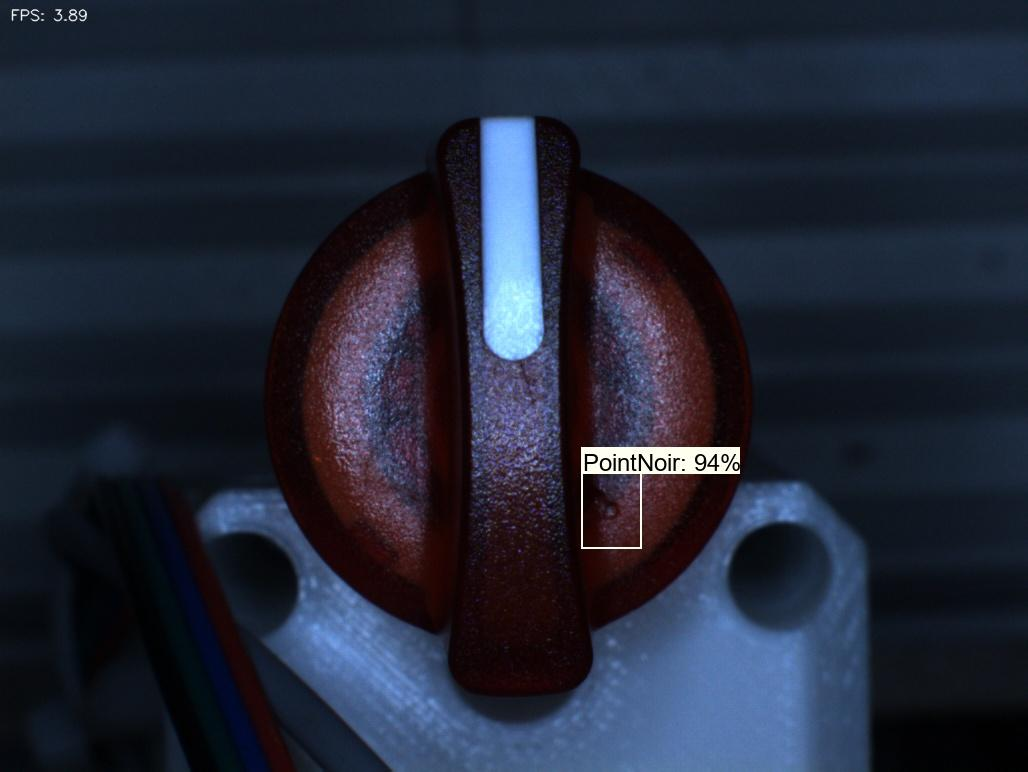Choc: (583, 471, 655, 552)
